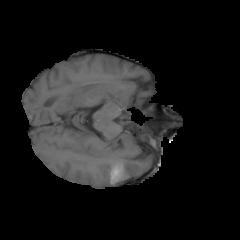glioma: (102, 153, 148, 186)
